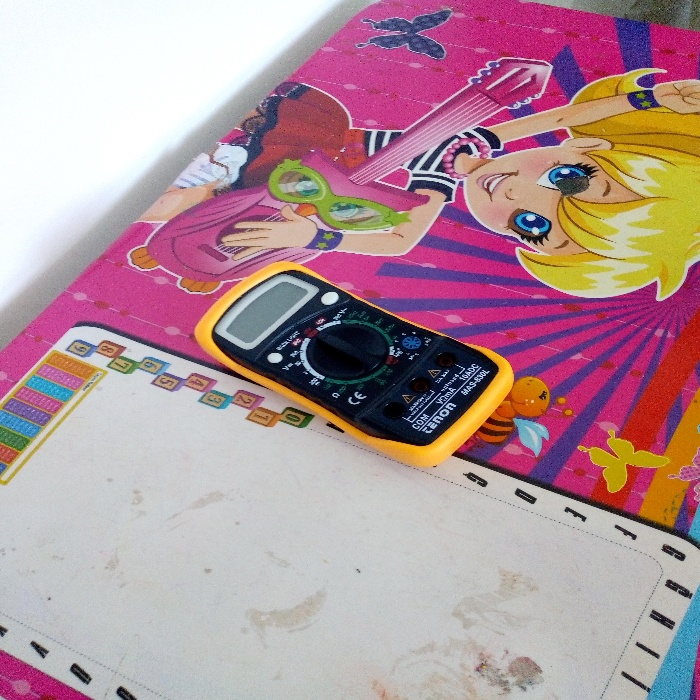multimetre: (188, 262, 514, 454)
